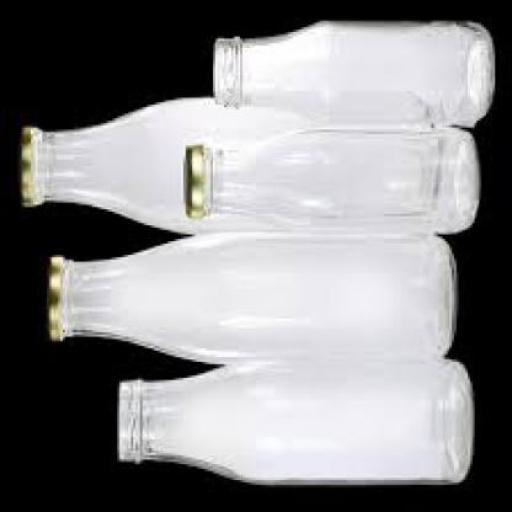glass: (59, 225, 455, 362), (130, 357, 472, 482), (32, 95, 310, 232), (202, 126, 476, 236), (235, 18, 494, 125)
metal: (39, 253, 61, 334), (180, 139, 202, 214), (17, 125, 36, 202)
